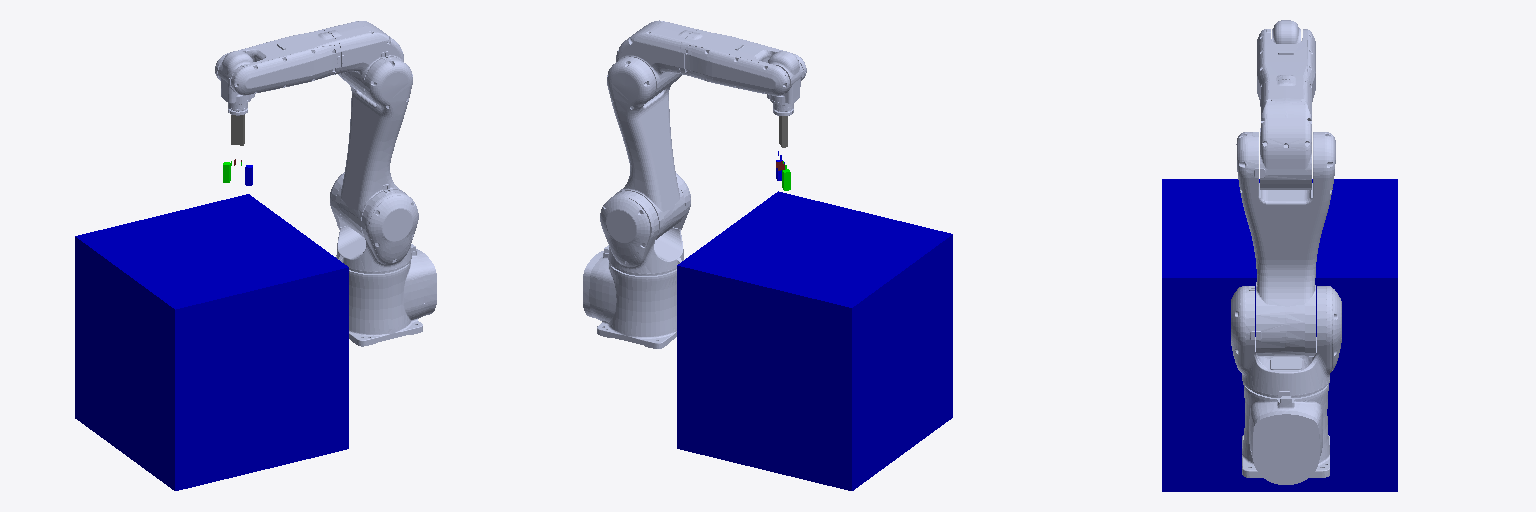
robot.urdf — mr07s:
<?xml version="1.0" encoding="utf-8"?>
<!-- This URDF was automatically created by SolidWorks to URDF Exporter! Originally created by Stephen Brawner (brawner@gmail.com) 
     Commit Version: 1.6.0-4-g7f85cfe  Build Version: 1.6.7995.38578
     For more information, please see http://wiki.ros.org/sw_urdf_exporter -->
<robot
  name="mr07s">
  <link
    name="base_link">
    <inertial>
      <origin
        xyz="0 0 0"
        rpy="0 0 0" />
      <mass
        value="10.639" />
      <inertia
        ixx="0.073952"
        ixy="-0.00021632"
        ixz="-1.4955E-05"
        iyy="0.088063"
        iyz="5.1017E-07"
        izz="0.098988" />
    </inertial>
    <visual>
      <origin
        xyz="0 0 0"
        rpy="0 0 0" />
      <geometry>
        <mesh
          filename="package://mr07s/meshes/base_link.STL" />
      </geometry>
      <material
        name="">
        <color
          rgba="0.79216 0.81961 0.93333 1" />
      </material>
    </visual>
    <collision>
      <origin
        xyz="0 0 0"
        rpy="0 0 0" />
      <geometry>
        <mesh
          filename="package://mr07s/meshes/base_link.STL" />
      </geometry>
    </collision>
  </link>
  <link
    name="Link1">
    <inertial>
      <origin
        xyz="0.0044261 0.11272 3.0488E-05"
        rpy="0 0 0" />
      <mass
        value="4.7503" />
      <inertia
        ixx="0.066795"
        ixy="0.0011275"
        ixz="0.00016496"
        iyy="0.054205"
        iyz="-9.3936E-06"
        izz="0.034784" />
    </inertial>
    <visual>
      <origin
        xyz="0 0 0"
        rpy="0 0 0" />
      <geometry>
        <mesh
          filename="package://mr07s/meshes/Link1.STL" />
      </geometry>
      <material
        name="">
        <color
          rgba="0.79216 0.81961 0.93333 1" />
      </material>
    </visual>
    <collision>
      <origin
        xyz="0 0 0"
        rpy="0 0 0" />
      <geometry>
        <mesh
          filename="package://mr07s/meshes/Link1.STL" />
      </geometry>
    </collision>
  </link>
  <joint
    name="joint1"
    type="revolute">
    <origin
      xyz="-0.08087 -0.28412 0.10017"
      rpy="1.5708 0 0" />
    <parent
      link="base_link" />
    <child
      link="Link1" />
    <axis
      xyz="0 1 0" />
    <limit
      lower="-1.57"
      upper="1.57"
      effort="0"
      velocity="0" />
  </joint>
  <link
    name="Link2">
    <inertial>
      <origin
        xyz="-0.0017618 0.18196 -4.2386E-06"
        rpy="0 0 0" />
      <mass
        value="10.025" />
      <inertia
        ixx="0.35474"
        ixy="-0.0050842"
        ixz="-3.4765E-06"
        iyy="0.050848"
        iyz="-4.8636E-05"
        izz="0.33232" />
    </inertial>
    <visual>
      <origin
        xyz="0 0 0"
        rpy="0 0 0" />
      <geometry>
        <mesh
          filename="package://mr07s/meshes/Link2.STL" />
      </geometry>
      <material
        name="">
        <color
          rgba="0.79216 0.81961 0.93333 1" />
      </material>
    </visual>
    <collision>
      <origin
        xyz="0 0 0"
        rpy="0 0 0" />
      <geometry>
        <mesh
          filename="package://mr07s/meshes/Link2.STL" />
      </geometry>
    </collision>
  </link>
  <joint
    name="joint2"
    type="revolute">
    <origin
      xyz="0 0.164 0"
      rpy="0 0 0" />
    <parent
      link="Link1" />
    <child
      link="Link2" />
    <axis
      xyz="0 0 -1" />
    <limit
      lower="-1.57"
      upper="1.57"
      effort="0"
      velocity="0" />
  </joint>
  <link
    name="Link3">
    <inertial>
      <origin
        xyz="-0.028935 0.050304 1.242E-05"
        rpy="0 0 0" />
      <mass
        value="4.8" />
      <inertia
        ixx="0.023824"
        ixy="0.0071231"
        ixz="-1.0819E-06"
        iyy="0.022455"
        iyz="-3.4868E-08"
        izz="0.033003" />
    </inertial>
    <visual>
      <origin
        xyz="0 0 0"
        rpy="0 0 0" />
      <geometry>
        <mesh
          filename="package://mr07s/meshes/Link3.STL" />
      </geometry>
      <material
        name="">
        <color
          rgba="0.79216 0.81961 0.93333 1" />
      </material>
    </visual>
    <collision>
      <origin
        xyz="0 0 0"
        rpy="0 0 0" />
      <geometry>
        <mesh
          filename="package://mr07s/meshes/Link3.STL" />
      </geometry>
    </collision>
  </link>
  <joint
    name="joint3"
    type="revolute">
    <origin
      xyz="0 0.45 0"
      rpy="0 0 0" />
    <parent
      link="Link2" />
    <child
      link="Link3" />
    <axis
      xyz="0 0 1" />
    <limit
      lower="-1.57"
      upper="1.57"
      effort="0"
      velocity="0" />
  </joint>
  <link
    name="Link4">
    <inertial>
      <origin
        xyz="-0.14945 3.6073E-05 0.00026246"
        rpy="0 0 0" />
      <mass
        value="4.1815" />
      <inertia
        ixx="0.011156"
        ixy="6.7843E-06"
        ixz="0.00016135"
        iyy="0.04173"
        iyz="-8.3629E-07"
        izz="0.037617" />
    </inertial>
    <visual>
      <origin
        xyz="0 0 0"
        rpy="0 0 0" />
      <geometry>
        <mesh
          filename="package://mr07s/meshes/Link4.STL" />
      </geometry>
      <material
        name="">
        <color
          rgba="0.79216 0.81961 0.93333 1" />
      </material>
    </visual>
    <collision>
      <origin
        xyz="0 0 0"
        rpy="0 0 0" />
      <geometry>
        <mesh
          filename="package://mr07s/meshes/Link4.STL" />
      </geometry>
    </collision>
  </link>
  <joint
    name="joint4"
    type="revolute">
    <origin
      xyz="-0.151 0.1 0"
      rpy="0 0 0" />
    <parent
      link="Link3" />
    <child
      link="Link4" />
    <axis
      xyz="1 0 0" />
    <limit
      lower="-1.57"
      upper="1.57"
      effort="0"
      velocity="0" />
  </joint>
  <link
    name="Link5">
    <inertial>
      <origin
        xyz="-0.015049 2.1362E-05 1.4696E-05"
        rpy="0 0 0" />
      <mass
        value="0.92857" />
      <inertia
        ixx="0.00091923"
        ixy="-5.0151E-07"
        ixz="-2.7709E-07"
        iyy="0.0021802"
        iyz="-7.2262E-07"
        izz="0.002357" />
    </inertial>
    <visual>
      <origin
        xyz="0 0 0"
        rpy="0 0 0" />
      <geometry>
        <mesh
          filename="package://mr07s/meshes/Link5.STL" />
      </geometry>
      <material
        name="">
        <color
          rgba="0.79216 0.81961 0.93333 1" />
      </material>
    </visual>
    <collision>
      <origin
        xyz="0 0 0"
        rpy="0 0 0" />
      <geometry>
        <mesh
          filename="package://mr07s/meshes/Link5.STL" />
      </geometry>
    </collision>
  </link>
  <joint
    name="joint5"
    type="revolute">
    <origin
      xyz="-0.319 0 0"
      rpy="0 0 1.5707963" />
    <parent
      link="Link4" />
    <child
      link="Link5" />
    <axis
      xyz="0 0 1" />
    <limit
      lower="-1.57"
      upper="1.57"
      effort="0"
      velocity="0" />
  </joint>
  <link
    name="Link6">
    <inertial>
      <origin
        xyz="-0.0088433 -9.0514E-05 5.5511E-17"
        rpy="0 0 0" />
      <mass
        value="0.027826" />
      <inertia
        ixx="1.3194E-05"
        ixy="-1.0244E-09"
        ixz="-2.0432E-22"
        iyy="6.9579E-06"
        iyz="4.2759E-21"
        izz="6.8848E-06" />
    </inertial>
    <visual>
      <origin
        xyz="0 0 0"
        rpy="0 0 0" />
      <geometry>
        <mesh
          filename="package://mr07s/meshes/Link6.STL" />
      </geometry>
      <material
        name="">
        <color
          rgba="0.79216 0.81961 0.93333 1" />
      </material>
    </visual>
    <collision>
      <origin
        xyz="0 0 0"
        rpy="0 0 0" />
      <geometry>
        <mesh
          filename="package://mr07s/meshes/Link6.STL" />
      </geometry>
    </collision>
  </link>
  <joint
    name="joint6"
    type="revolute">
    <origin
      xyz="-0.108 0 0"
      rpy="0 0 0" />
    <parent
      link="Link5" />
    <child
      link="Link6" />
    <axis
      xyz="1 0 0" />
    <limit
      lower="-1.57"
      upper="1.57"
      effort="0"
      velocity="0" />
  </joint>
    <material name="Orange">
    <color rgba="1.0 0.423529411765 0.0392156862745 0.9"/>
  </material>
  <material name="Grey">
    <color rgba="0.50196 0.50196 0.50196 1"/>
  </material>
  <material name="Blue">
    <color rgba="0 0 1 1"/>
  </material>
  <material name="Red">
    <color rgba="1 0 0 1"/>
  </material>  
  <material name="Brown">
    <color rgba="0.50196 0.1647 0.1647 1"/>
  </material>
  <material name="Green">
    <color rgba="0 1 0 1"/>
  </material>
  <!-- MR07S hand -->
  <joint name="MR07S-tool_base" type="fixed">
    <parent link="Link6"/>
    <child link="MR07S_tool_base"/>
    <!-- <origin rpy="3.1415926535 0 0.7854" xyz="0 0 -0.04"/> -->
    <origin rpy="1.570786 0 -1.5708" xyz="-0.02 0 0"/>
  </joint>

  <link name="MR07S_tool_base">
    <!--<inertial>
      <origin rpy="0 0 0" xyz="0 0 0"/>
      <mass value="0.2"/>
      <inertia ixx="0.0001" ixy="0" ixz="0" iyy="0.0001" iyz="0" izz="0.0001"/>
    </inertial>
    <visual>
      <origin rpy="0 0 0" xyz="0 0 0"/>
      <geometry>
        <mesh filename="package://double_robot_description/meshes/air_gripper/air_gripper_01.stl"/>
      </geometry>
      <material name="Grey"/>
    </visual>
    <collision>
        <origin xyz="0 0 0" rpy="0 0 0"/>
        <geometry>
          <mesh filename="package://double_robot_description/meshes/air_gripper/air_gripper_01.stl"/>
        </geometry>
        <material name="Grey"/>
    </collision>-->
  </link>


  <joint name="MR07S_Hiwin_joint" type="fixed">
    <origin rpy="0 0 0" xyz="0 0 0.104"/>
    <parent link="MR07S_tool_base"/>
    <child link="MR07S_Hiwin"/>
  </joint>

  <link name="MR07S_Hiwin">
    <inertial>
        <mass value="0.001" />
        <origin xyz="0 0 0" rpy="0 0 0" />
        <inertia ixx="0.0001" ixy="0.0" ixz="0.0" iyy="0.0001" iyz="0.0"  izz="0.0001" />
    </inertial>
    <visual>
        <origin xyz="0 0 -0.054" rpy="0 0 -0.785398" />
        <geometry>
            <box size="0.018 0.038 0.104" />
        </geometry>
        <material name="Grey"/>
    </visual>
    <collision>
        <origin xyz="0 0 -0.054" rpy="0 0 -0.785398" />
        <geometry>
            <box size="0.018 0.038 0.104" />
        </geometry>
        <material name="Grey"/>
    </collision>
  </link>


  <joint name="MR07S_toolbase_hiwin" type="fixed">
    <!-- <origin rpy="1.5708 0 3.145926535" xyz="0 0.10 0.10"/> -->
    <origin rpy="0 0 -0.7854" xyz="0.00 0.00 0"/>
    <parent link="MR07S_Hiwin"/>
    <child link="MR07S_Hiwin_base"/>
  </joint>


  <link name="MR07S_Hiwin_base">
    <inertial>
      <!-- <origin  xyz="-0.000372881534360556 2.44142256911499E-06 0.0306785725962284"  rpy="0 0 0" /> -->
      <origin
        xyz="0 0.008 0.055"  rpy="1.5708 0 0" />
      <mass
        value="0.250933542525954" />
      <inertia
        ixx="0.000101445651698207"  ixy="-2.28274484518009E-10"  ixz="-1.00858554937318E-06"  iyy="0.000420364887876067"  iyz="5.637983554928E-09"  izz="0.000362419868166457" />
    </inertial>
    <visual>
      <origin
        xyz="0 0.008 0.055"  rpy="1.5708 0 0" />
      <geometry>
        <mesh  filename="package://hiwin/meshs/Hiwin_base.STL" />
      </geometry>
      <!-- <material  name="">
        <color  rgba="0.870588235294 0.811764705882 0.764705882353 1.0" />
      </material> -->
      <material name="Brown"/>
    </visual>
    <collision>
      <origin
        xyz="0 0.008 0.055"  rpy="1.5708 0 0" />
      <geometry>
        <mesh  filename="package://hiwin/meshs/Hiwin_base.STL" />
      </geometry>
      <!-- <material  name="">
        <color  rgba="0.870588235294 0.811764705882 0.764705882353 1.0" />
      </material> -->
      <material name="Brown"/>
    </collision>
  </link>
  

  <joint  name="MR07S_Hiwin_finger1_joint"  type="fixed">
    <origin  xyz="0.000 0.010 0.0552"  rpy="-1.5708 0 0" />
    <parent  link="MR07S_Hiwin_base" />
    <child  link="MR07S_Hiwin_finger1" />
    <axis  xyz="1 0 0" />
    <limit  lower="0"  upper="0.016"  effort="0"  velocity="0" />
  </joint>


  <link  name="MR07S_Hiwin_finger1">
    <inertial>
      <origin
        xyz="0 0 0.00875"  rpy="0 0 0" />
      <mass
        value="0.0030491" />
      <inertia
        ixx="1.8227E-07"  ixy="3.8841E-22"  ixz="9.404E-23"  iyy="2.6256E-07"  iyz="-9.3883E-11"  izz="1.0254E-07" />
    </inertial>
    <visual>
      <origin
        xyz="0 0 0.00875"  rpy="0 0 0" />
      <geometry>
        <mesh
          filename="package://hiwin/meshs/finger1.STL" />
      </geometry>
      <material name="Blue"/>
    </visual>
    <collision>
      <origin
        xyz="0 0 0.00875"  rpy="0 0 0" />
      <geometry>
        <mesh
          filename="package://hiwin/meshs/finger1.STL" />
      </geometry>
      <material name="Blue"/>
    </collision>
  </link>

<!--  -0.012 -->
  <joint name="MR07S_Hiwin_finger1_box_joint" type="fixed">
    <origin rpy="1.5708 0 0" xyz="0 -0.042 0.025"/>
    <parent link="MR07S_Hiwin_finger1"/>
    <child link="MR07S_Hiwin_finger1_box"/>
  </joint>

  <link name="MR07S_Hiwin_finger1_box">
    <inertial>
        <mass value="0.001" />
        <origin xyz="0 0 0" rpy="0 0 0" />
        <inertia ixx="0.0001" ixy="0.0" ixz="0.0" iyy="0.0001" iyz="0.0"  izz="0.0001" />
    </inertial>
    <visual>
        <origin xyz="0 0 0" rpy="0 0 0" />
        <geometry>
            <box size="0.02 0.02 0.06" />
        </geometry>
        <material name="Blue"/>
    </visual>
    <collision>
        <origin xyz="0 0 0" rpy="0 0 0" />
        <geometry>
            <box size="0.02 0.02 0.06" />
        </geometry>
        <material name="Blue"/>
    </collision>
  </link>
  
 

<!--  -0.0552 -->
  <joint  name="MR07S_Hiwin_finger2_joint"  type="fixed">
    <origin  xyz="0.000 -0.010 0.0552"  rpy="1.5708 0 0" />
    <parent  link="MR07S_Hiwin_base" />
    <child  link="MR07S_Hiwin_finger2" />
    <!-- <axis  xyz="1 0 0" />
    <limit  lower="0"  upper="0"  effort="0"  velocity="0" />
    <mimic  joint="finger1_joint"  multiplier="1"  offset="0" /> -->
  </joint>


  <link  name="MR07S_Hiwin_finger2">
    <inertial>
      <origin
        xyz="0 0 0.00875"  rpy="0 3.1415926535 0" />
      <mass
        value="0" />
      <inertia
        ixx="0"  ixy="0"  ixz="0"  iyy="0"  iyz="0"  izz="0" />
    </inertial>
    <visual>
      <origin
        xyz="0 0 0.00875"  rpy="0 3.1415926535 0" />
      <geometry>
        <mesh  filename="package://hiwin/meshs/finger2.STL" />
      </geometry>
      <material name="Green"/>
    </visual>
    <collision>
      <origin
        xyz="0 0 0.00875"  rpy="0 3.1415926535 0" />
      <geometry>
        <mesh  filename="package://hiwin/meshs/finger2.STL" />
      </geometry>
      <material name="Green"/>
    </collision>
  </link>

  <joint name="MR07S_Hiwin_finger2_box_joint" type="fixed">
    <origin rpy="1.5708 0 0" xyz="0 0.042 0.025"/>
    <parent link="MR07S_Hiwin_finger2"/>
    <child link="MR07S_Hiwin_finger2_box"/>
  </joint>

  <link name="MR07S_Hiwin_finger2_box">
    <inertial>
        <mass value="0.001" />
        <origin xyz="0 0 0" rpy="0 0 0" />
        <inertia ixx="0.0001" ixy="0.0" ixz="0.0" iyy="0.0001" iyz="0.0"  izz="0.0001" />
    </inertial>
    <visual>
        <origin xyz="0 0 0" rpy="0 0 0" />
        <geometry>
            <box size="0.02 0.02 0.06" />
        </geometry>
        <material name="Green"/>
    </visual>
    <collision>
        <origin xyz="0 0 0" rpy="0 0 0" />
        <geometry>
            <box size="0.02 0.02 0.06" />
        </geometry>
        <material name="Green"/>
    </collision>
  </link>

<!--  
  <joint name="gripper_l_joint" type="prismatic">
    <parent link="MR07S_tool_base"/>
    <child link="gripper_l_finger_r"/>
    <origin rpy="0 0 1.05884" xyz="0.0054 -0.0031 0.0777"/>
    <axis xyz="1 0 0"/>
    <limit effort="20" lower="0.015" upper="0.02" velocity="2"/>
    <dynamics damping="1.0"/>
  </joint>

  <link name="gripper_l_finger_r">
    <inertial>
      <origin rpy="0 0 0" xyz="0 0 0"/>
      <mass value="0.01"/>
      <inertia ixx="0.000001" ixy="0" ixz="0" iyy="0.000001" iyz="0" izz="0.000001"/>
    </inertial>
    <visual>
      <origin rpy="0 0 0" xyz="0 0 0"/>
      <geometry>
        <mesh filename="package://double_robot_description/meshes/air_gripper/air_gripper_02_l.stl"/>
      </geometry>
      <material name="Blue"/>
    </visual>
     <collision>
      <origin rpy="0 0 0" xyz="0 0 0"/>
      <geometry>
        <mesh filename="package://double_robot_description/meshes/air_gripper/air_gripper_02_l.stl"/>
      </geometry>
      <material name="Blue"/>
    </collision> 
  </link>

  <joint name="gripper_l_joint_m" type="prismatic">
    <parent link="MR07S_tool_base"/>
    <child link="gripper_l_finger_l"/>
    <origin rpy="0 0 -2.08275" xyz="0.0 0 0.0777"/>
    <axis xyz="1 0 0"/>
    <limit effort="20" lower="0.015" upper="0.02" velocity="2"/>
    <dynamics damping="1.0"/>
    <mimic joint="gripper_l_joint"/>
  </joint>

  <link name="gripper_l_finger_l">
    <inertial>
      <origin rpy="0 0 0" xyz="0 -0.00625 0"/>
      <mass value="0.01"/>
      <inertia ixx="0.000001" ixy="0" ixz="0" iyy="0.000001" iyz="0" izz="0.000001"/>
    </inertial>
    <visual>
      <origin rpy="0 0 0" xyz="0 -0.00625 0"/>
      <geometry>
        <mesh filename="package://double_robot_description/meshes/air_gripper/air_gripper_02_l.stl"/>
      </geometry>
      <material name="Green"/>
    </visual>
    <collision>
      <origin rpy="0 0 0" xyz="0 -0.00625 0"/>
      <geometry>
        <mesh filename="package://double_robot_description/meshes/air_gripper/air_gripper_02_l.stl"/>
      </geometry>
      <material name="Green"/>
    </collision>
  </link>

-->

  <joint name="MR07S_end_frame" type="fixed">
    <origin rpy="1.570786 0 -1.5708" xyz="-0.25 0 0"/>
    <parent link="Link6"/>
    <child link="MR07S_end_frame"/>
  </joint>

  <link name="MR07S_end_frame">
  </link>  
  
	  <material name="blue">
    <color rgba="0 0 0.8 1"/>
  </material>
  <joint name="world-table" type="fixed">
    <origin rpy="0 0 0" xyz="-0.65 -0.3 -0.0421"/>
    <child link="table"/>
    <parent link="base_link"/>
  </joint>
  <link name="table">
    <inertial>
        <mass value="10000" />
        <origin xyz="0 0 0" />
        <inertia ixx="10000" ixy="0" ixz="0" iyy="10000" iyz="0" izz="10000" />
    </inertial>
    <visual>
        <origin xyz=" 0 0 0 " rpy="0 0 0" />
        <geometry>
            <box size="0.6 0.6 0.6" />
        </geometry>
        <material name="blue"/>
    </visual>
    <collision>
        <origin xyz="0.0 0.0 0.0" rpy="0 0 0" />
  <surface>
    <contact>
      <ode>
        <min_depth>0.001</min_depth>
      </ode>
    </contact>
  </surface>
        <geometry>
            <box size="0.99 1.30 0.6" />
        </geometry>
        <material name="blue"/>
    </collision>
  </link>
  <gazebo reference="table">
    <material>Gazebo/Blue</material>
</gazebo>
</robot>

--- What the picture shows (computed from the rendered views, not written in the file) ---
3 views of the same robot in one strip: view 1: azimuth 30°, elevation 25°; view 2: azimuth 150°, elevation 25°; view 3: azimuth 270°, elevation 25° (orthographic).
Model mr07s with 16 links and 15 joints (6 revolute, 9 fixed), rooted at base_link, posed every joint at zero.
Visible links, largest first — view 1: table, Link2, base_link, Link1, Link4, Link3, Link5; view 2: table, Link2, base_link, Link1, Link4, Link3, Link5; view 3: table, Link2, base_link, Link1, Link3, Link4, Link5.
Link boxes in pixels (x1=…): table: x1=75, y1=194, x2=348, y2=490; Link2: x1=335, y1=56, x2=412, y2=237; base_link: x1=349, y1=244, x2=436, y2=346; Link1: x1=330, y1=172, x2=418, y2=272; Link4: x1=215, y1=29, x2=340, y2=95; Link3: x1=323, y1=21, x2=403, y2=97; Link5: x1=218, y1=51, x2=254, y2=111; table: x1=677, y1=191, x2=952, y2=490; Link2: x1=607, y1=57, x2=685, y2=239; base_link: x1=583, y1=245, x2=676, y2=348; Link1: x1=600, y1=173, x2=690, y2=274; Link4: x1=679, y1=29, x2=806, y2=95; Link3: x1=616, y1=20, x2=697, y2=98; Link5: x1=767, y1=51, x2=803, y2=111; table: x1=1162, y1=179, x2=1397, y2=491; Link2: x1=1236, y1=132, x2=1335, y2=355; base_link: x1=1242, y1=384, x2=1329, y2=484; Link1: x1=1231, y1=286, x2=1341, y2=397; Link3: x1=1260, y1=79, x2=1311, y2=189; Link4: x1=1257, y1=29, x2=1315, y2=101; Link5: x1=1272, y1=20, x2=1300, y2=43.
Size in the robot's own frame: 1.04 by 0.6 by 1.23 metres.
10 mesh visuals loaded from 10 distinct referenced files (7 binary STL, 3 ASCII STL).
